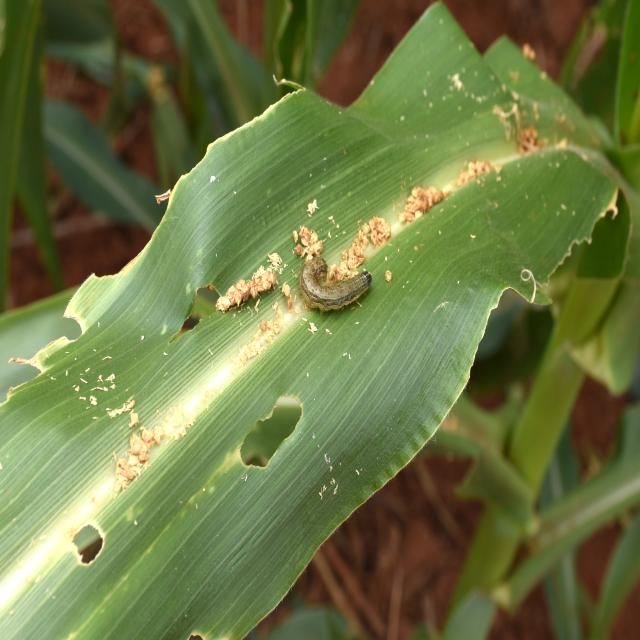yellow-stem-borer-larva: (291, 239, 394, 329)
